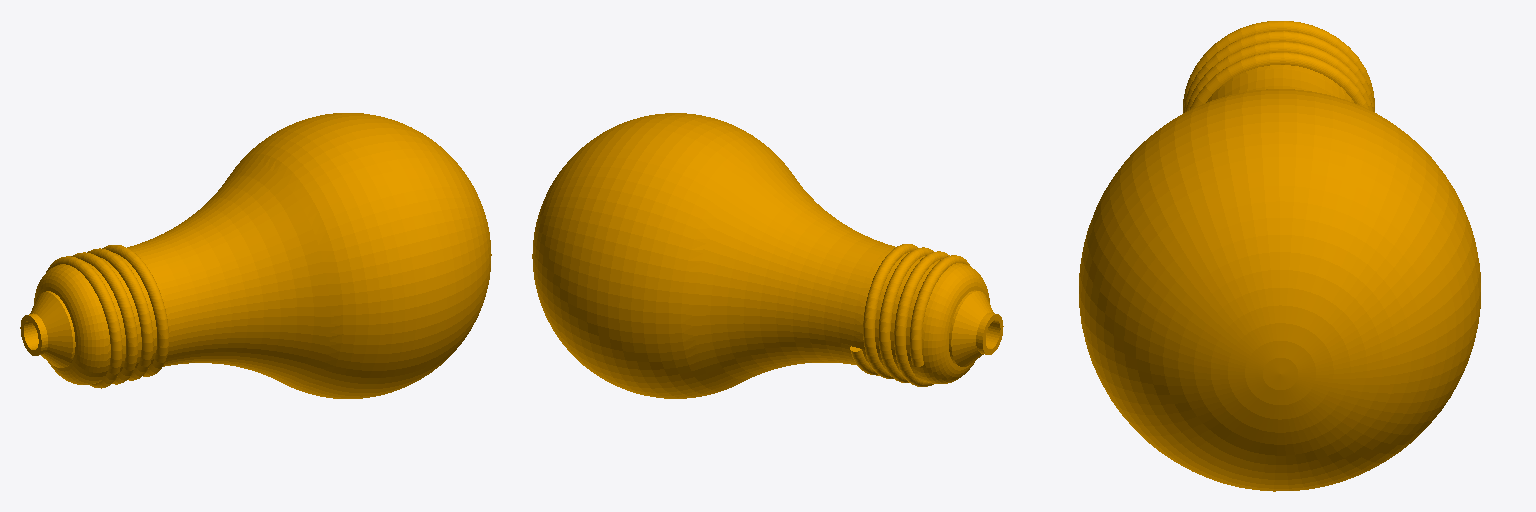
The robot description file, URDF, robot "object":
<?xml version="1.0"?>
<robot name="object">
  <link name="object">
    <visual>
      <origin xyz="0.0 0.0 0.0"/>
      <geometry>
        <mesh filename="light_bulb.stl" scale="1.00 1.00 1.00"/>
      </geometry>
    </visual>
    <collision>
      <origin xyz="0.0 0.0 0.0"/>
      <geometry>
        <mesh filename="light_bulb.stl" scale="1.00 1.00 1.00"/>
      </geometry>
    </collision>
  </link>
</robot>
    
                    

--- Facts derived from the render (not from the file) ---
Views: 3 orthographic renders of the robot side by side, from view 1: azimuth 30°, elevation 25°; view 2: azimuth 150°, elevation 25°; view 3: azimuth 270°, elevation 25°.
Model object with 1 links and 0 joints (none), rooted at object, posed all joints at 0.
Visible links, largest first — view 1: object; view 2: object; view 3: object.
Boxes of the visible links, left/top/right/bottom form: object: left=20, top=113, right=491, bottom=398; object: left=532, top=113, right=1003, bottom=398; object: left=1079, top=21, right=1480, bottom=491.
Bounding box of the posed robot: 0.1105 × 0.0621 × 0.0621 m (x, y, z).
1 mesh visuals loaded from 1 distinct referenced files (1 binary STL).
